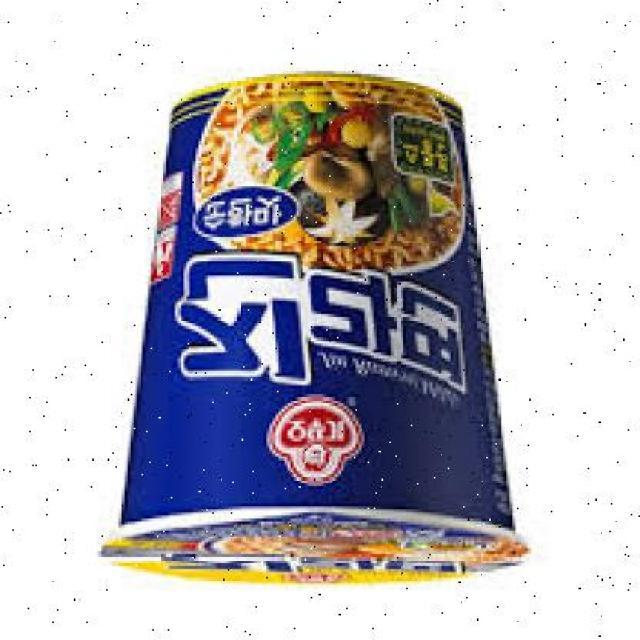Miscellaneous: (93, 65, 533, 590)
